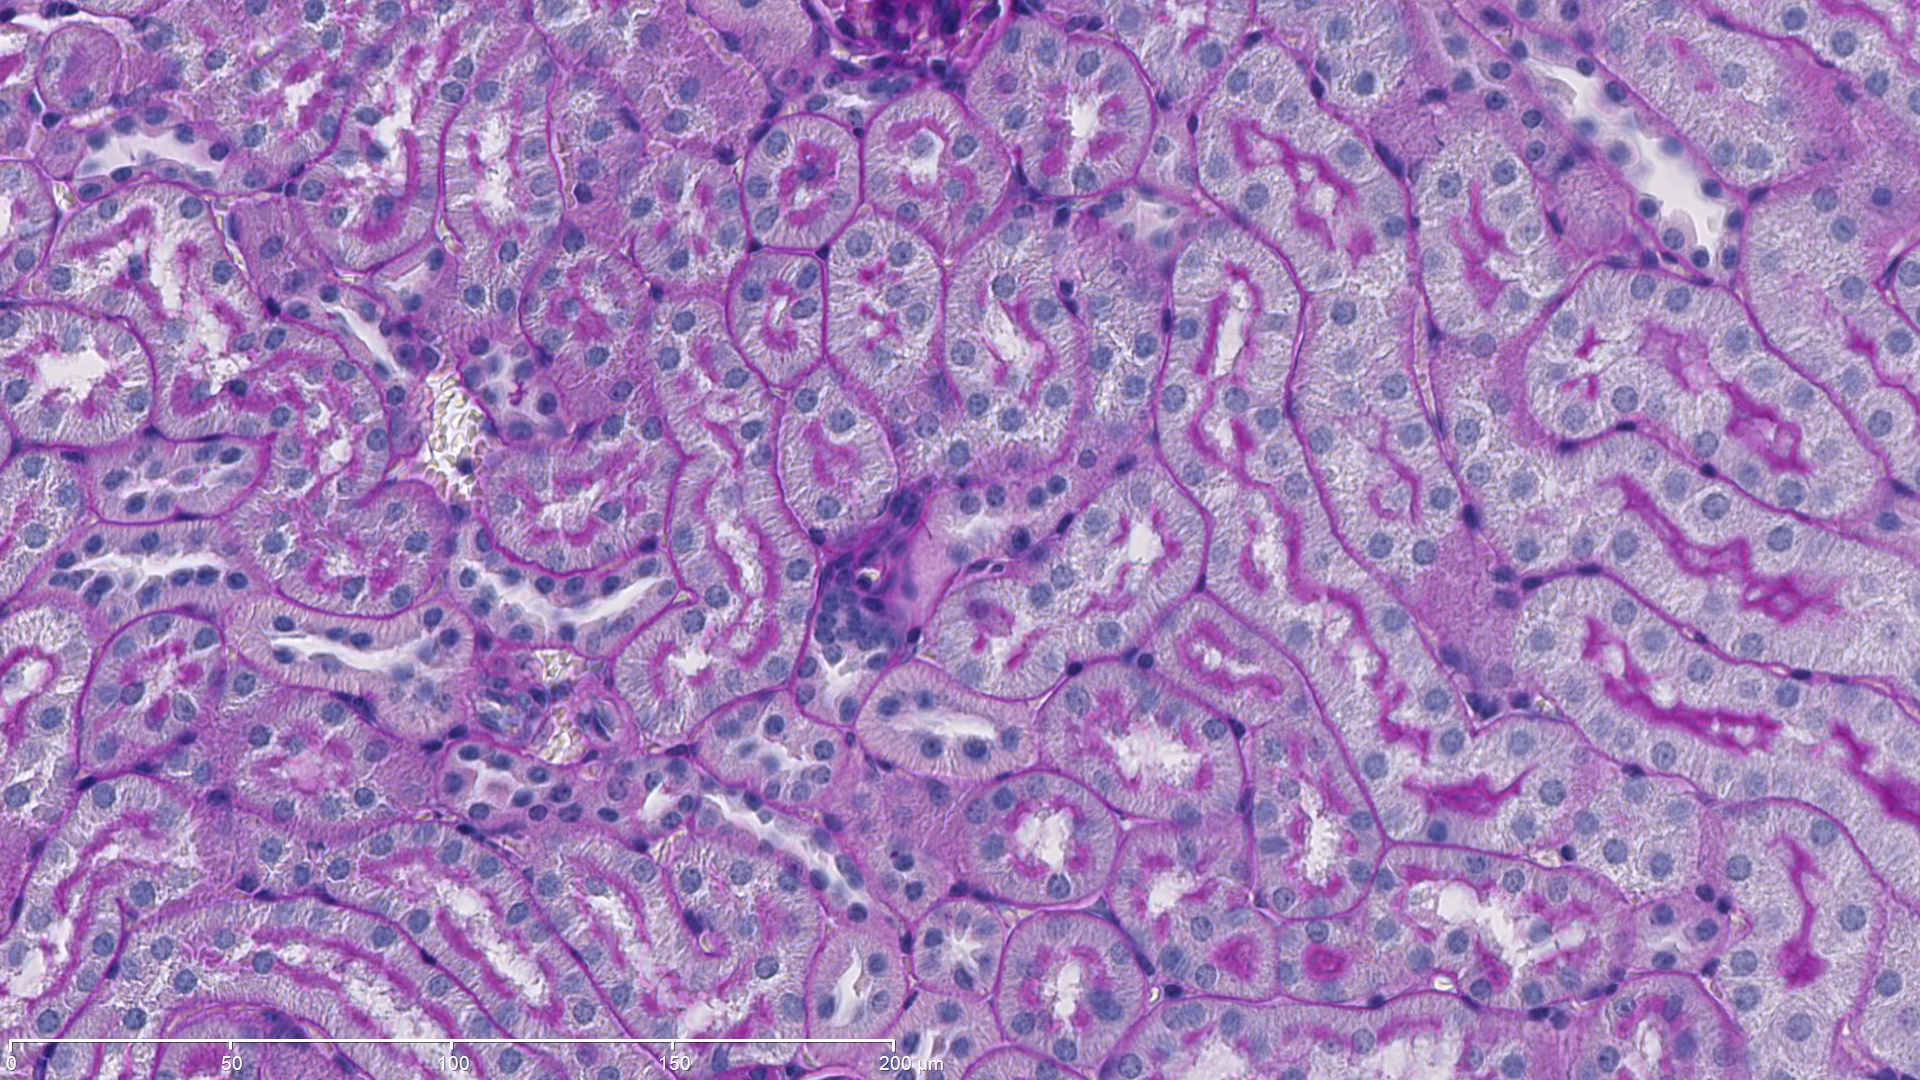Glomeruli: (804, 472, 939, 691), (787, 4, 1038, 87)
